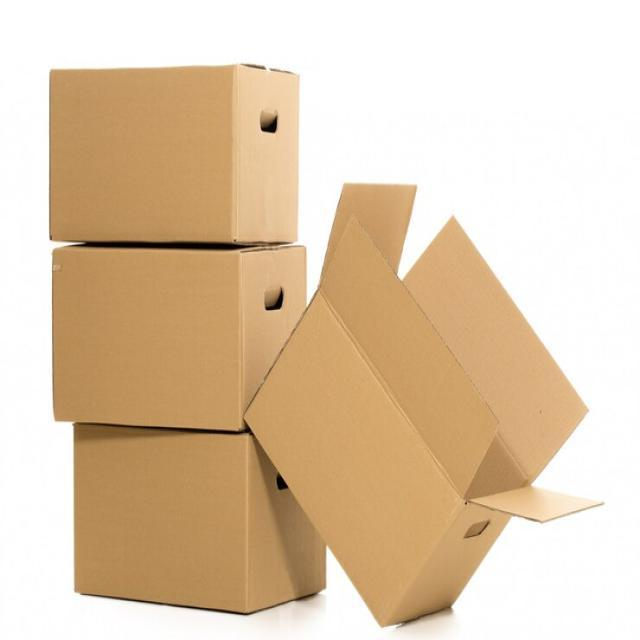BoxFace: (244, 289, 460, 628), (51, 248, 240, 426), (48, 64, 230, 243), (75, 432, 249, 618)
